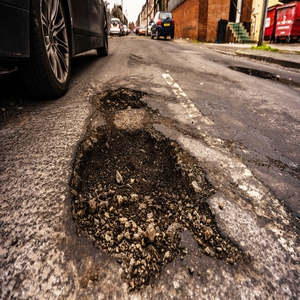pothole: (70, 83, 226, 285)
